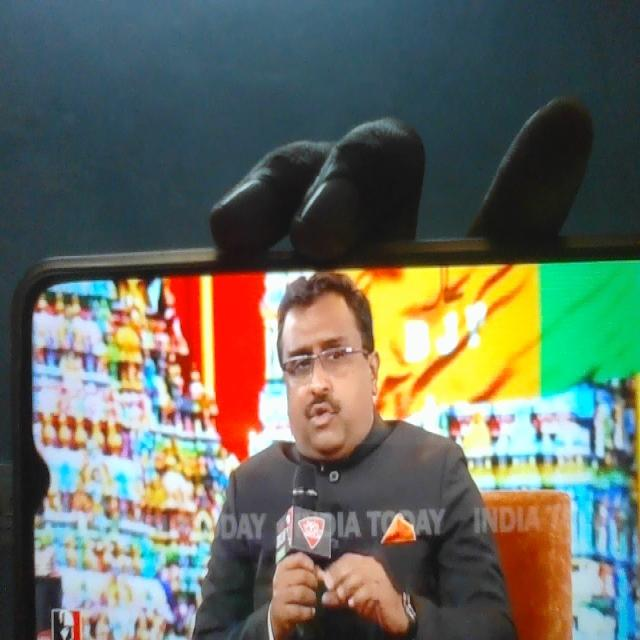fake: (274, 265, 380, 467)
